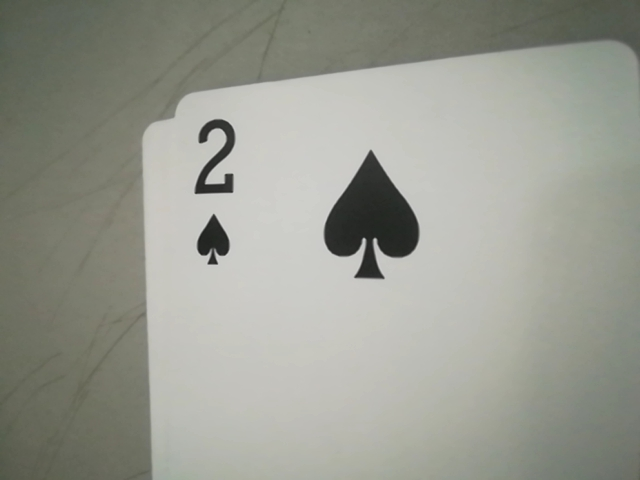ht 2: (172, 100, 259, 275)
